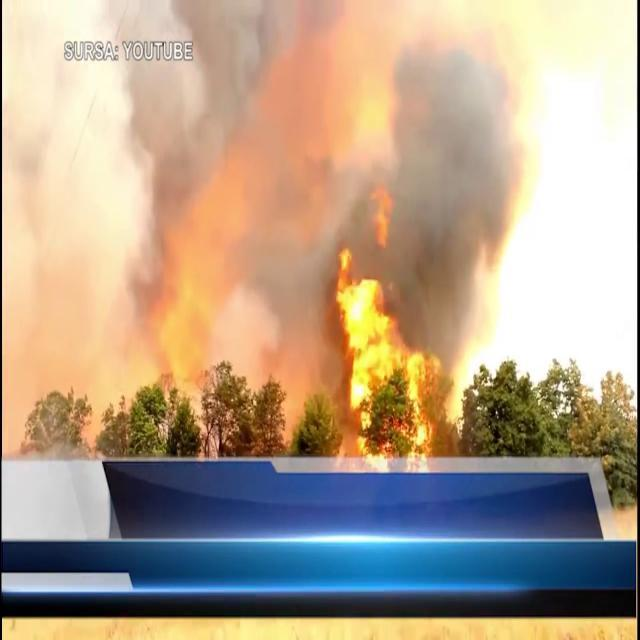Fire: (321, 242, 447, 465)
Smoke: (92, 0, 514, 386)
